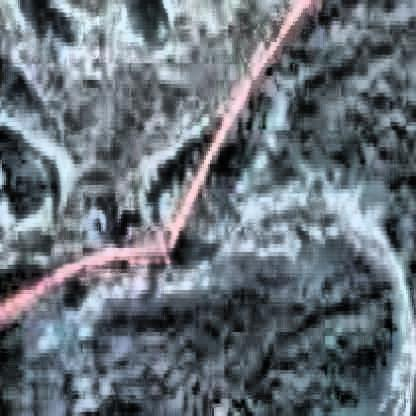sheen: (34, 166, 416, 416), (0, 0, 289, 292)
